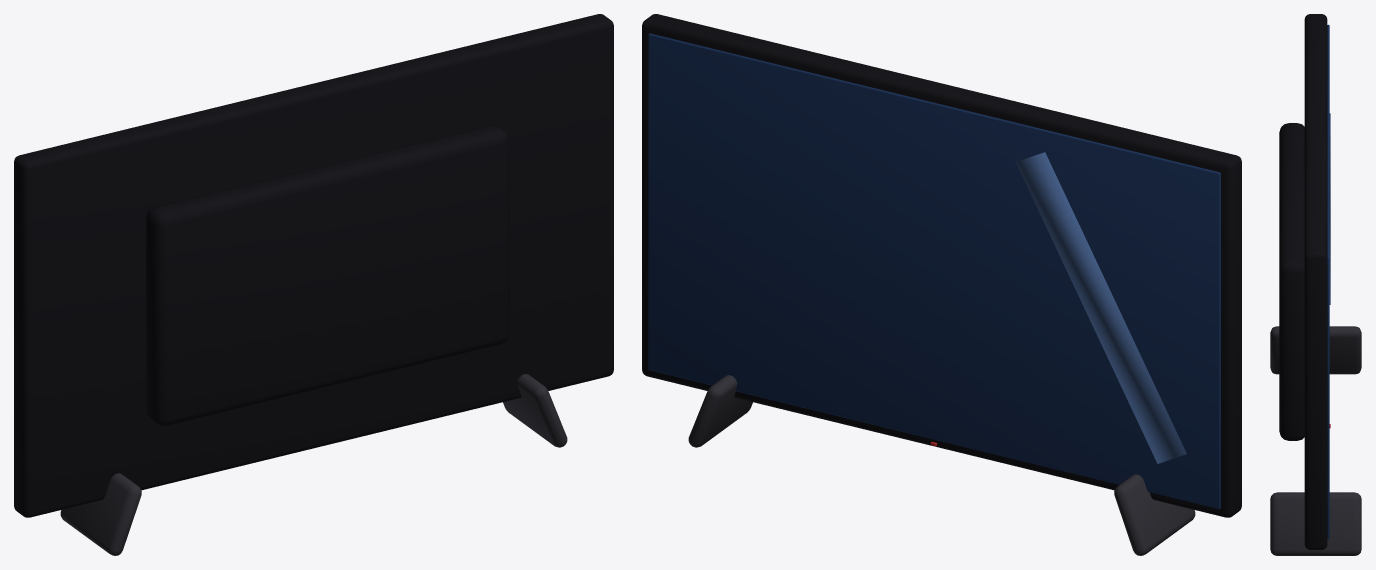
3 views of the same model, side by side, from view 1: azimuth 30°, elevation 25°; view 2: azimuth 150°, elevation 25°; view 3: azimuth 270°, elevation 25° (orthographic). The views are drawn at different scales.
Visible parts, largest first — view 1: tv; view 2: screen, tv; view 3: tv, screen.
Boxes of the visible parts, left/top/right/bottom form: tv: left=14, top=14, right=613, bottom=555; screen: left=648, top=33, right=1220, bottom=508; tv: left=642, top=14, right=1241, bottom=555; tv: left=1270, top=14, right=1361, bottom=555; screen: left=1327, top=24, right=1329, bottom=539.
Size of the model in its own units: 1.25 by 0.8009 by 0.2.
